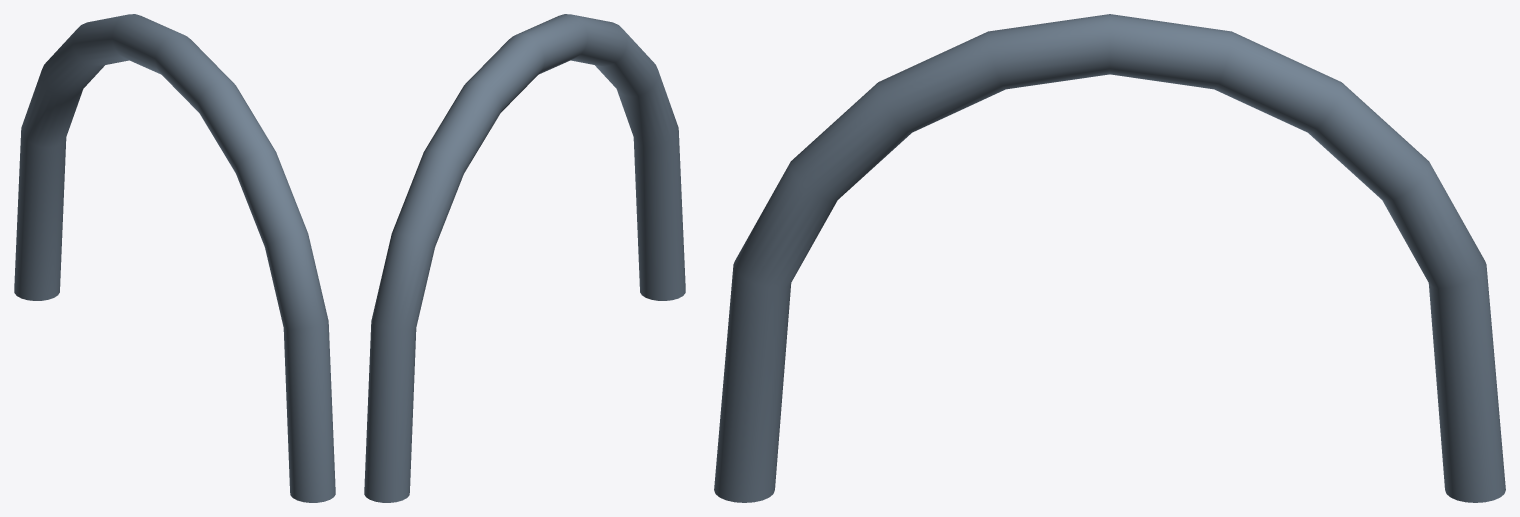
The model's file is last_wicket.obj.
3 views of the same model, side by side, from view 1: azimuth 30°, elevation 25°; view 2: azimuth 150°, elevation 25°; view 3: azimuth 270°, elevation 25° (orthographic). The views are drawn at different scales.
Parts seen in each view (by area): view 1: pTorus1; view 2: pTorus1; view 3: pTorus1.
Part boxes in pixels (left/top/right/bottom): pTorus1: left=14, top=14, right=335, bottom=502; pTorus1: left=364, top=14, right=685, bottom=502; pTorus1: left=714, top=14, right=1505, bottom=502.
Size of the model in its own units: 0.5 by 4.29 by 6.5.
